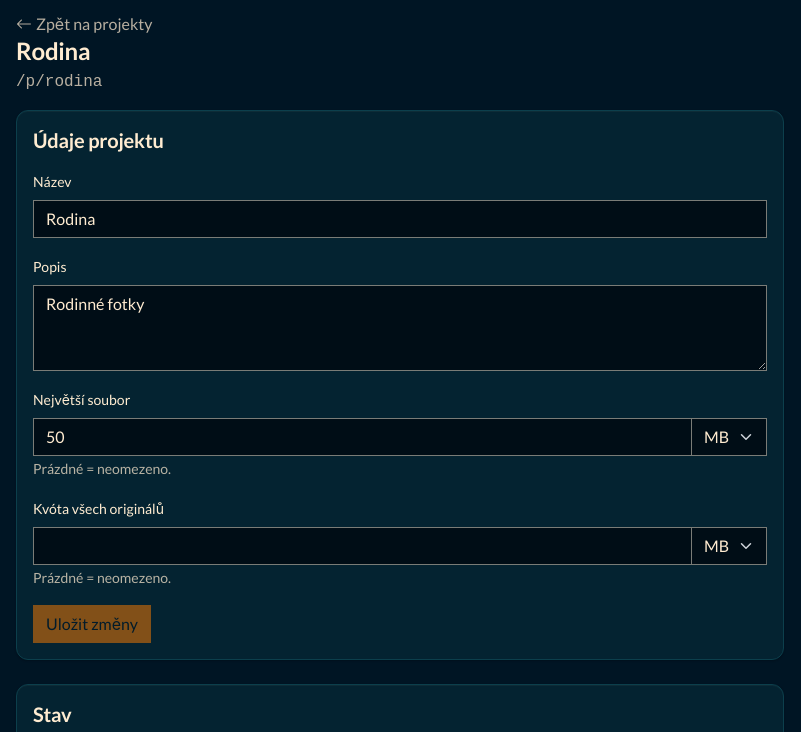
SystemProjectPage › leaves the session alone when only a limit changed
Clear the field labelled "Největší soubor" at (362, 437), box top-left (33, 418), bottom-right (692, 456)
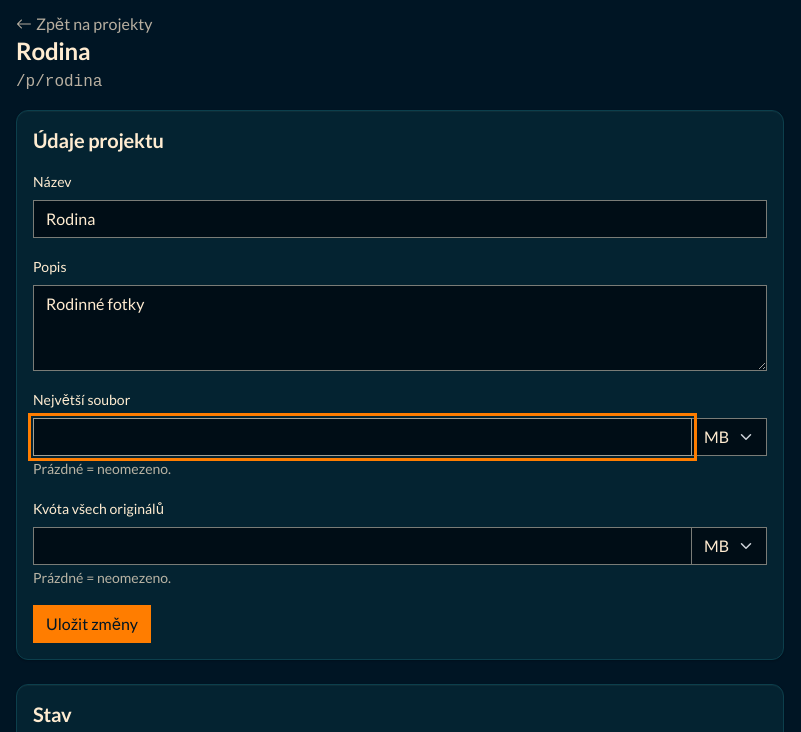
Click the button "Uložit změny" at (92, 624), box top-left (33, 605), bottom-right (151, 643)
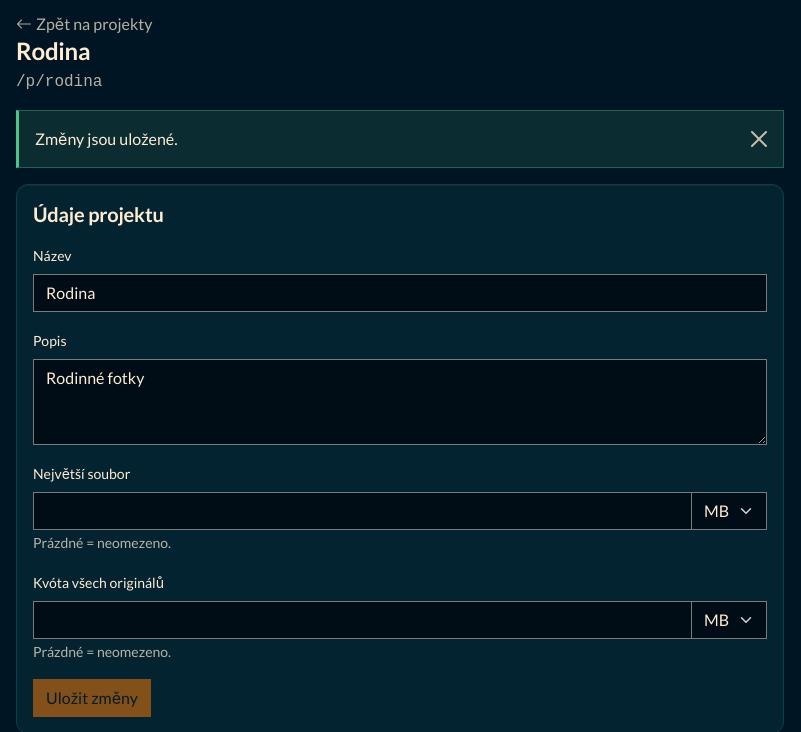
Now the text "Změny jsou uložené." is shown, box top-left (16, 110), bottom-right (784, 168)
